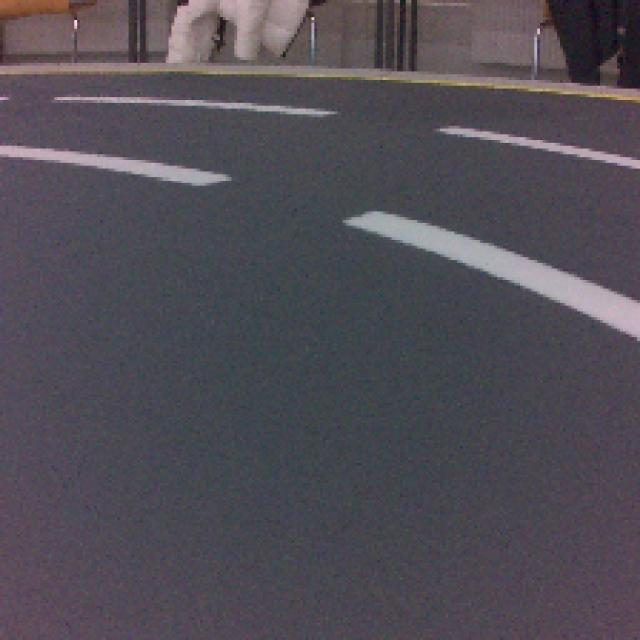Pedestrian crosswalk: (353, 205, 640, 338)
